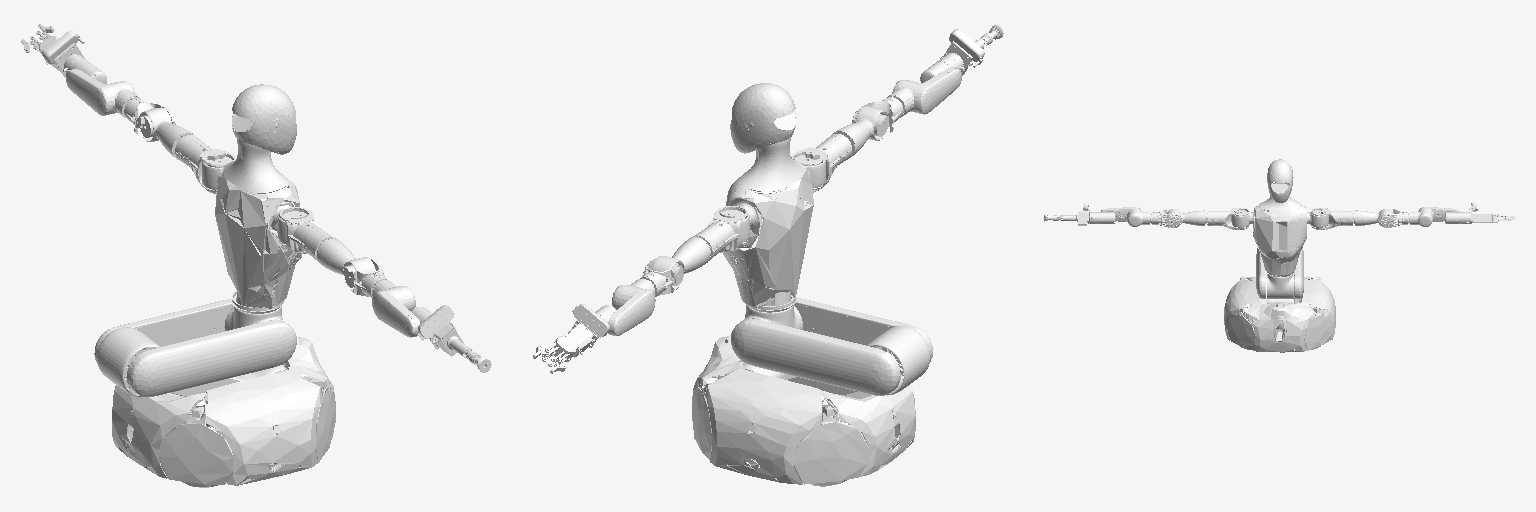
--- Facts derived from the render (not from the file) ---
Views: 3 orthographic renders of the robot side by side, from view 1: azimuth 30°, elevation 25°; view 2: azimuth 150°, elevation 25°; view 3: azimuth 270°, elevation 25°.
Robot: galbot_one — 47 links, 46 joints (21 revolute, 2 prismatic, 23 fixed); root link base_link; default pose: all joints at 0 but 2 set to mid-range because 0 is outside their limits (left_gripper_left_joint = 0.0275, left_gripper_right_joint = 0.0275).
Links seen in each view (by area): view 1: omni_chassis_base_link, leg_link2, torso_base_link, head_link2, leg_link1, left_arm_link5, right_arm_link5, right_arm_link2, right_arm_link3, left_arm_link3, left_arm_link2, left_arm_camera_flange_link (+7 smaller); view 2: omni_chassis_base_link, leg_link2, torso_base_link, head_link2, leg_link1, right_arm_link5, left_arm_link5, left_arm_link2, left_arm_link3, right_arm_link3, left_gripper_base_link, right_arm_link2 (+7 smaller); view 3: omni_chassis_base_link, torso_base_link, head_link2, leg_link2, leg_link3, left_arm_link5, right_arm_link5.
Boxes of the visible links, x1,y1,x2,y2 form: omni_chassis_base_link: (112,337,335,487); leg_link2: (94,299,296,396); torso_base_link: (215,139,301,308); head_link2: (231,84,296,154); leg_link1: (97,327,285,396); left_arm_link5: (66,68,140,118); right_arm_link5: (372,280,419,337); right_arm_link2: (279,207,335,260); right_arm_link3: (317,239,375,291); left_arm_link3: (136,107,194,159); left_arm_link2: (175,135,235,193); left_arm_camera_flange_link: (43,31,84,70); omni_chassis_base_link: (692,335,915,486); leg_link2: (731,297,932,395); torso_base_link: (723,130,813,308); head_link2: (730,83,795,153); leg_link1: (743,326,930,395); right_arm_link5: (887,67,961,116); left_arm_link5: (608,279,655,335); left_arm_link2: (691,206,747,260); left_arm_link3: (652,237,709,289); right_arm_link3: (833,106,888,157); left_gripper_base_link: (542,320,597,366); right_arm_link2: (791,134,851,192); omni_chassis_base_link: (1224,276,1335,352); torso_base_link: (1253,196,1306,275); head_link2: (1267,159,1293,202); leg_link2: (1256,248,1303,298); leg_link3: (1267,274,1293,298); left_arm_link5: (1410,207,1459,226); right_arm_link5: (1101,207,1149,226).
Bounding box of the posed robot: 0.6562 × 2.47 × 1.06 m (x, y, z).
Meshes: 33 distinct files referenced, 35 mesh visuals loaded (33 binary STL).

The robot description file, URDF, robot "galbot_one":
<?xml version="1.0" ?>
<!-- =================================================================================== -->
<!-- |    This document was autogenerated by xacro from urdf/galbot_one/galbot_one.xacro | -->
<!-- |    EDITING THIS FILE BY HAND IS NOT RECOMMENDED                                 | -->
<!-- =================================================================================== -->
<!-- 
#####################################################################################
#
# Copyright (c) 2023-2024 Galbot, Inc. All lefts Reserved.
#
# This software contains confidential and proprietary information of Galbot, Inc.
# ("Confidential Information"). You shall not disclose such Confidential Information
# and shall use it only in accordance with the terms of the license agreement you
# entered into with Galbot, Inc.
#
# UNAUTHORIZED COPYING, USE, OR DISTRIBUTION OF THIS SOFTWARE, OR ANY PORTION OR
# DERIVATIVE THEREOF, IS STRICTLY PROHIBITED. IF YOU HAVE RECEIVED THIS SOFTWARE IN
# ERROR, PLEASE NOTIFY GALBOT, INC. IMMEDIATELY AND DELETE IT FROM YOUR SYSTEM.
#
#####################################################################################
#
# Description: Xacro file for Galbot One.
# Author: Herman Ye@Galbot, Yuhao Zeng@Galbot
#
#####################################################################################
-->
<robot name="galbot_one">
  <!-- ROBOT -->
  <!-- Robot Base Link -->
  <link name="base_link"/>
  <joint name="omni_chassis_joint" type="fixed">
    <origin rpy="0 0 0" xyz="0 0 0"/>
    <parent link="base_link"/>
    <child link="omni_chassis_base_link"/>
  </joint>
  <link name="omni_chassis_base_link">
    <inertial>
      <origin rpy="0 0 0" xyz="0.00094269 0.00017452 0.09326"/>
      <mass value="8.7914"/>
      <inertia ixx="0.11584" ixy="-0.00011125" ixz="0.00045932" iyy="0.08221" iyz="2.8393E-06" izz="0.14295"/>
    </inertial>
    <visual>
      <origin rpy="0 0 0" xyz="0 0 0"/>
      <geometry>
        <mesh filename="meshes/chassis/omni_chassis_base_link.stl"/>
      </geometry>
      <material name="">
        <color rgba="1 1 1 1"/>
      </material>
    </visual>
    <collision>
      <origin rpy="0 0 0" xyz="0 0 0"/>
      <geometry>
        <mesh filename="meshes/chassis/omni_chassis_base_link.stl"/>
      </geometry>
    </collision>
  </link>
  <link name="omni_chassis_leg_mount_link"/>
  <joint name="omni_chassis_leg_mount_joint" type="fixed">
    <origin rpy="1.5707963267948966 0 0" xyz="0.134 -0.087 0.13"/>
    <parent link="omni_chassis_base_link"/>
    <child link="omni_chassis_leg_mount_link"/>
    <axis xyz="0 0 0"/>
  </joint>
  <joint name="leg_joint" type="fixed">
    <origin rpy="0 0 0" xyz="0 0 0"/>
    <parent link="omni_chassis_leg_mount_link"/>
    <child link="leg_base_link"/>
  </joint>
  <link name="leg_base_link">
    <inertial>
      <origin rpy="0 0 0" xyz="0.0027248 -0.094364 -0.050137"/>
      <mass value="0.91885"/>
      <inertia ixx="0.0043203" ixy="6.1508E-05" ixz="8.9569E-05" iyy="0.0039878" iyz="-0.0010684" izz="0.0027984"/>
    </inertial>
    <visual>
      <origin rpy="0 0 0" xyz="0 0 0"/>
      <geometry>
        <mesh filename="meshes/leg/leg_base_link.stl"/>
      </geometry>
      <material name="">
        <color rgba="1 1 1 1"/>
      </material>
    </visual>
    <collision>
      <origin rpy="0 0 0" xyz="0 0 0"/>
      <geometry>
        <mesh filename="meshes/leg/leg_base_link.stl"/>
      </geometry>
    </collision>
  </link>
  <link name="leg_link1">
    <inertial>
      <origin rpy="0 0 0" xyz="0.23294 -0.0052987 0.0039698"/>
      <mass value="4.7692"/>
      <inertia ixx="0.019082" ixy="-0.0011116" ixz="0.00034191" iyy="0.16145" iyz="-6.2146E-05" izz="0.15826"/>
    </inertial>
    <visual>
      <origin rpy="0 0 0" xyz="0 0 0"/>
      <geometry>
        <mesh filename="meshes/leg/leg_link1.stl"/>
      </geometry>
      <material name="">
        <color rgba="1 1 1 1"/>
      </material>
    </visual>
    <collision>
      <origin rpy="0 0 0" xyz="0 0 0"/>
      <geometry>
        <mesh filename="meshes/leg/leg_link1.stl"/>
      </geometry>
    </collision>
  </link>
  <joint name="leg_joint1" type="revolute">
    <origin rpy="-3.141592653589793 0 2.756573021" xyz="0 0 -0.087"/>
    <parent link="leg_base_link"/>
    <child link="leg_link1"/>
    <axis xyz="0 0 1"/>
    <limit effort="169" lower="0" upper="0.994837674" velocity="2.3"/>
  </joint>
  <link name="leg_link2">
    <inertial>
      <origin rpy="0 0 0" xyz="0.19637 2.4915E-06 0.0034234"/>
      <mass value="3.6233"/>
      <inertia ixx="0.0054462" ixy="-2.1435E-06" ixz="-2.9611E-05" iyy="0.066819" iyz="5.2347E-08" izz="0.071791"/>
    </inertial>
    <visual>
      <origin rpy="0 0 0" xyz="0 0 0"/>
      <geometry>
        <mesh filename="meshes/leg/leg_link2.stl"/>
      </geometry>
      <material name="">
        <color rgba="1 1 1 1"/>
      </material>
    </visual>
    <collision>
      <origin rpy="0 0 0" xyz="0 0 0"/>
      <geometry>
        <mesh filename="meshes/leg/leg_link2.stl"/>
      </geometry>
    </collision>
  </link>
  <joint name="leg_joint2" type="revolute">
    <origin rpy="-3.141592653589793 0 2.756573021" xyz="0.45 0 0"/>
    <parent link="leg_link1"/>
    <child link="leg_link2"/>
    <axis xyz="0 0 1"/>
    <limit effort="169" lower="0" upper="3.141592654" velocity="2.3"/>
  </joint>
  <link name="leg_link3">
    <inertial>
      <origin rpy="0 0 0" xyz="-1.1016E-05 0.012237 0.0042074"/>
      <mass value="1.7624"/>
      <inertia ixx="0.006745" ixy="-4.1776E-07" ixz="8.7932E-07" iyy="0.0066437" iyz="9.063E-05" izz="0.0073862"/>
    </inertial>
    <visual>
      <origin rpy="0 0 0" xyz="0 0 0"/>
      <geometry>
        <mesh filename="meshes/leg/leg_link3.stl"/>
      </geometry>
      <material name="">
        <color rgba="1 1 1 1"/>
      </material>
    </visual>
    <collision>
      <origin rpy="0 0 0" xyz="0 0 0"/>
      <geometry>
        <mesh filename="meshes/leg/leg_link3.stl"/>
      </geometry>
    </collision>
  </link>
  <joint name="leg_joint3" type="revolute">
    <origin rpy="-3.141592653589793 0 -3.141592653589793" xyz="0.39 0 0"/>
    <parent link="leg_link2"/>
    <child link="leg_link3"/>
    <axis xyz="0 0 1"/>
    <limit effort="84" lower="0" upper="2.35619449" velocity="2.83"/>
  </joint>
  <link name="leg_link4">
    <inertial>
      <origin rpy="0 0 0" xyz="5.7927E-05 -3.0701E-05 0.15111"/>
      <mass value="0.37584"/>
      <inertia ixx="0.00049514" ixy="-3.0213E-07" ixz="-3.9055E-09" iyy="0.00051468" iyz="1.3486E-09" izz="0.00084078"/>
    </inertial>
    <visual>
      <origin rpy="0 0 0" xyz="0 0 0"/>
      <geometry>
        <mesh filename="meshes/leg/leg_link4.stl"/>
      </geometry>
      <material name="">
        <color rgba="1 1 1 1"/>
      </material>
    </visual>
    <collision>
      <origin rpy="0 0 0" xyz="0 0 0"/>
      <geometry>
        <mesh filename="meshes/leg/leg_link4.stl"/>
      </geometry>
    </collision>
  </link>
  <joint name="leg_joint4" type="revolute">
    <origin rpy="1.5707963267948966 0 -3.141592653589793" xyz="0 0 0"/>
    <parent link="leg_link3"/>
    <child link="leg_link4"/>
    <axis xyz="0 0 1"/>
    <limit effort="30" lower="-1.570796327" upper="1.570796327" velocity="3.56"/>
  </joint>
  <link name="leg_torso_mount_link"/>
  <joint name="leg_torso_mount_joint" type="fixed">
    <origin rpy="0 0 0" xyz="0 0 0"/>
    <parent link="leg_link4"/>
    <child link="leg_torso_mount_link"/>
    <axis xyz="0 0 0"/>
  </joint>
  <joint name="torso_joint" type="fixed">
    <origin rpy="0 0 0" xyz="0 0 0"/>
    <parent link="leg_torso_mount_link"/>
    <child link="torso_base_link"/>
  </joint>
  <link name="torso_base_link">
    <inertial>
      <origin rpy="0 0 0" xyz="0.009452 -0.0097068 -0.041989"/>
      <mass value="1.5697"/>
      <inertia ixx="0.018397" ixy="-6.5897E-07" ixz="0.00030036" iyy="0.013058" iyz="0.00016843" izz="0.0082332"/>
    </inertial>
    <visual>
      <origin rpy="0 0 0" xyz="0 0 0"/>
      <geometry>
        <mesh filename="meshes/torso/torso_base_link.stl"/>
      </geometry>
      <material name="">
        <color rgba="1 1 1 1"/>
      </material>
    </visual>
    <collision>
      <origin rpy="0 0 0" xyz="0 0 0"/>
      <geometry>
        <mesh filename="meshes/torso/torso_base_link.stl"/>
      </geometry>
    </collision>
  </link>
  <!-- Head Mount -->
  <link name="torso_head_mount_link"/>
  <joint name="torso_head_mount_joint" type="fixed">
    <origin rpy="0 0 0" xyz="-0.0081669 5E-05 0.51594"/>
    <parent link="torso_base_link"/>
    <child link="torso_head_mount_link"/>
    <axis xyz="0 0 0"/>
  </joint>
  <!-- Right Arm Mount -->
  <link name="torso_right_arm_mount_link"/>
  <joint name="torso_right_arm_mount_joint" type="fixed">
    <origin rpy="1.5707963267948966 0 0" xyz="0 -0.13 0.39599"/>
    <parent link="torso_base_link"/>
    <child link="torso_right_arm_mount_link"/>
    <axis xyz="0 0 0"/>
  </joint>
  <!-- Left Arm Mount -->
  <link name="torso_left_arm_mount_link"/>
  <joint name="torso_left_arm_mount_joint" type="fixed">
    <origin rpy="1.5707963267948966 0 3.141592653589793" xyz="0 0.13 0.39599"/>
    <parent link="torso_base_link"/>
    <child link="torso_left_arm_mount_link"/>
    <axis xyz="0 0 0"/>
  </joint>
  <joint name="head_joint" type="fixed">
    <origin rpy="0 0 0" xyz="0 0 0"/>
    <parent link="torso_head_mount_link"/>
    <child link="head_base_link"/>
  </joint>
  <link name="head_base_link">
    <inertial>
      <origin rpy="0 0 0" xyz="0.009452 -0.0097068 -0.16194"/>
      <mass value="1.5697"/>
      <inertia ixx="0.018397" ixy="-6.5897E-07" ixz="0.00030036" iyy="0.013058" iyz="0.00016843" izz="0.0082332"/>
    </inertial>
    <visual>
      <origin rpy="0 0 0" xyz="0 0 0"/>
      <geometry>
        <mesh filename="meshes/head/head_base_link.stl"/>
      </geometry>
      <material name="">
        <color rgba="1 1 1 1"/>
      </material>
    </visual>
    <collision>
      <origin rpy="0 0 0" xyz="0 0 0"/>
      <geometry>
        <mesh filename="meshes/head/head_base_link.stl"/>
      </geometry>
    </collision>
  </link>
  <link name="head_link1">
    <inertial>
      <origin rpy="0 0 0" xyz="0 0.020487 -0.038531"/>
      <mass value="0.067654"/>
      <inertia ixx="6.0514E-05" ixy="9.335E-21" ixz="-2.5793E-20" iyy="6.6478E-05" iyz="-1.3077E-05" izz="2.4032E-05"/>
    </inertial>
    <visual>
      <origin rpy="0 0 0" xyz="0 0 0"/>
      <geometry>
        <mesh filename="meshes/head/head_link1.stl"/>
      </geometry>
      <material name="">
        <color rgba="1 1 1 1"/>
      </material>
    </visual>
    <collision>
      <origin rpy="0 0 0" xyz="0 0 0"/>
      <geometry>
        <mesh filename="meshes/head/head_link1.stl"/>
      </geometry>
    </collision>
  </link>
  <joint name="head_joint1" type="revolute">
    <origin rpy="0 0 0" xyz="0 0 0.068"/>
    <parent link="head_base_link"/>
    <child link="head_link1"/>
    <axis xyz="0 0 1"/>
    <limit effort="4" lower="-1.570796327" upper="1.570796327" velocity="8.38"/>
  </joint>
  <link name="head_link2">
    <inertial>
      <origin rpy="0 0 0" xyz="0.024473 -0.053558 0.0026343"/>
      <mass value="0.34019"/>
      <inertia ixx="0.0011508" ixy="-0.00026177" ixz="-4.0924E-07" iyy="0.00085046" iyz="1.4953E-08" izz="0.0010147"/>
    </inertial>
    <visual>
      <origin rpy="0 0 0" xyz="0 0 0"/>
      <geometry>
        <mesh filename="meshes/head/head_link2.stl"/>
      </geometry>
      <material name="">
        <color rgba="1 1 1 1"/>
      </material>
    </visual>
    <collision>
      <origin rpy="0 0 0" xyz="0 0 0"/>
      <geometry>
        <mesh filename="meshes/head/head_link2.stl"/>
      </geometry>
    </collision>
  </link>
  <joint name="head_joint2" type="revolute">
    <origin rpy="-1.5707963267948966 0 0" xyz="0 0 0"/>
    <parent link="head_link1"/>
    <child link="head_link2"/>
    <axis xyz="0 0 1"/>
    <limit effort="4" lower="-0.366519143" upper="0.366519143" velocity="8.38"/>
  </joint>
  <joint name="right_arm_joint" type="fixed">
    <origin rpy="0 0 0" xyz="0 0 0"/>
    <parent link="torso_right_arm_mount_link"/>
    <child link="right_arm_base_link"/>
  </joint>
  <link name="right_arm_base_link">
    <inertial>
      <origin rpy="0 0 0" xyz="-0.000533006129660687 0.000198297061670072 -0.0301844828757755"/>
      <mass value="1.10147619180644"/>
      <inertia ixx="0.000565108607160801" ixy="3.47222948820335E-06" ixz="-1.99104558319723E-05" iyy="0.000573095012457538" iyz="7.38740833192177E-06" izz="0.000685130221778769"/>
    </inertial>
    <visual>
      <origin rpy="0 0 0" xyz="0 0 0"/>
      <geometry>
        <mesh filename="meshes/arm/right_arm_base_link.stl"/>
      </geometry>
      <material name="">
        <color rgba="1 1 1 1"/>
      </material>
    </visual>
    <collision>
      <origin rpy="0 0 0" xyz="0 0 0"/>
      <geometry>
        <mesh filename="meshes/arm/right_arm_base_link.stl"/>
      </geometry>
    </collision>
  </link>
  <link name="right_arm_link1">
    <inertial>
      <origin rpy="0 0 0" xyz="3.49009164621467E-05 0.0108339687508697 -0.00355285779638756"/>
      <mass value="1.50298216561586"/>
      <inertia ixx="0.00141484199510697" ixy="1.78602050106263E-06" ixz="-8.63528107802525E-07" iyy="0.00177403869249562" iyz="5.86035752669724E-06" izz="0.00110206097229515"/>
    </inertial>
    <visual>
      <origin rpy="0 0 0" xyz="0 0 0"/>
      <geometry>
        <mesh filename="meshes/arm/right_arm_link1.stl"/>
      </geometry>
      <material name="">
        <color rgba="1 1 1 1"/>
      </material>
    </visual>
    <collision>
      <origin rpy="0 0 0" xyz="0 0 0"/>
      <geometry>
        <mesh filename="meshes/arm/right_arm_link1.stl"/>
      </geometry>
    </collision>
  </link>
  <joint name="right_arm_joint1" type="revolute">
    <origin rpy="0 0 0" xyz="0 0 0.076"/>
    <parent link="right_arm_base_link"/>
    <child link="right_arm_link1"/>
    <axis xyz="0 0 1"/>
    <limit effort="60" lower="-3.141592654" upper="3.141592654" velocity="1.5"/>
  </joint>
  <link name="right_arm_link2">
    <inertial>
      <origin rpy="0 0 0" xyz="-0.0011542937189659 -0.125918427333295 0.00403909337671848"/>
      <mass value="1.45678998733303"/>
      <inertia ixx="0.00269801896410487" ixy="4.63119567548212E-05" ixz="-1.77748665814381E-05" iyy="0.00131692955308753" iyz="-0.000382862812261171" izz="0.00264831680492027"/>
    </inertial>
    <visual>
      <origin rpy="0 0 0" xyz="0 0 0"/>
      <geometry>
        <mesh filename="meshes/arm/right_arm_link2.stl"/>
      </geometry>
      <material name="">
        <color rgba="1 1 1 1"/>
      </material>
    </visual>
    <collision>
      <origin rpy="0 0 0" xyz="0 0 0"/>
      <geometry>
        <mesh filename="meshes/arm/right_arm_link2.stl"/>
      </geometry>
    </collision>
  </link>
  <joint name="right_arm_joint2" type="revolute">
    <origin rpy="-1.5707963267948966 0 3.141592653589793" xyz="0 0 0"/>
    <parent link="right_arm_link1"/>
    <child link="right_arm_link2"/>
    <axis xyz="0 0 1"/>
    <limit effort="60" lower="-2.1" upper="1.570796327" velocity="1.5"/>
  </joint>
  <link name="right_arm_link3">
    <inertial>
      <origin rpy="0 0 0" xyz="0.000352305768300032 -0.00726519320891149 -0.0216211172275835"/>
      <mass value="1.19882450635199"/>
      <inertia ixx="0.00220937810713451" ixy="-1.39043584660172E-05" ixz="1.48996603867525E-06" iyy="0.00236018741531392" iyz="4.46418780437893E-05" izz="0.000843927012398976"/>
    </inertial>
    <visual>
      <origin rpy="0 0 0" xyz="0 0 0"/>
      <geometry>
        <mesh filename="meshes/arm/right_arm_link3.stl"/>
      </geometry>
      <material name="">
        <color rgba="1 1 1 1"/>
      </material>
    </visual>
    <collision>
      <origin rpy="0 0 0" xyz="0 0 0"/>
      <geometry>
        <mesh filename="meshes/arm/right_arm_link3.stl"/>
      </geometry>
    </collision>
  </link>
  <joint name="right_arm_joint3" type="revolute">
    <origin rpy="1.5707963267948966 1.5707963267948966 0" xyz="0 -0.35 0"/>
    <parent link="right_arm_link2"/>
    <child link="right_arm_link3"/>
    <axis xyz="0 0 1"/>
    <limit effort="30" lower="-3.141592654" upper="3.141592654" velocity="1.5"/>
  </joint>
  <link name="right_arm_link4">
    <inertial>
      <origin rpy="0 0 0" xyz="1.5931431873728E-07 -0.084100166334916 0.0032662830921263"/>
      <mass value="0.867364365948374"/>
      <inertia ixx="0.000877887383976985" ixy="1.06944001020881E-08" ixz="-1.42122359084054E-07" iyy="0.000585386964708275" iyz="-0.000142796694938426" izz="0.000827176121025835"/>
    </inertial>
    <visual>
      <origin rpy="0 0 0" xyz="0 0 0"/>
      <geometry>
        <mesh filename="meshes/arm/right_arm_link4.stl"/>
      </geometry>
      <material name="">
        <color rgba="1 1 1 1"/>
      </material>
    </visual>
    <collision>
      <origin rpy="0 0 0" xyz="0 0 0"/>
      <geometry>
        <mesh filename="meshes/arm/right_arm_link4.stl"/>
      </geometry>
    </collision>
  </link>
  <joint name="right_arm_joint4" type="revolute">
    <origin rpy="-1.5707963267948966 0 3.141592653589793" xyz="0 0 0"/>
    <parent link="right_arm_link3"/>
    <child link="right_arm_link4"/>
    <axis xyz="0 0 1"/>
    <limit effort="30" lower="-2.1" upper="2.1" velocity="1.5"/>
  </joint>
  <link name="right_arm_link5">
    <inertial>
      <origin rpy="0 0 0" xyz="-1.30340366499837E-06 0.0256418767190977 -0.117743286278551"/>
      <mass value="1.39256420094548"/>
      <inertia ixx="0.00316702853902255" ixy="7.21162282210242E-08" ixz="-1.52177542728743E-07" iyy="0.00325737339135618" iyz="-0.000396176140685722" izz="0.000888812918742085"/>
    </inertial>
    <visual>
      <origin rpy="0 0 0" xyz="0 0 0"/>
      <geometry>
        <mesh filename="meshes/arm/right_arm_link5.stl"/>
      </geometry>
      <material name="">
        <color rgba="1 1 1 1"/>
      </material>
    </visual>
    <collision>
      <origin rpy="0 0 0" xyz="0 0 0"/>
      <geometry>
        <mesh filename="meshes/arm/right_arm_link5.stl"/>
      </geometry>
    </collision>
  </link>
  <joint name="right_arm_joint5" type="revolute">
    <origin rpy="1.5707963267948966 0 0" xyz="0 -0.36 0"/>
    <parent link="right_arm_link4"/>
    <child link="right_arm_link5"/>
    <axis xyz="0 0 1"/>
    <limit effort="10" lower="-3.141592654" upper="3.141592654" velocity="1.5"/>
  </joint>
  <link name="right_arm_link6">
    <inertial>
      <origin rpy="0 0 0" xyz="-2.88922358060439E-06 -0.000979379563628591 -1.95950029232006E-05"/>
      <mass value="0.574328152865271"/>
      <inertia ixx="0.000196239414479137" ixy="-4.42040670473688E-09" ixz="-2.96256099677375E-08" iyy="0.00023336393089217" iyz="-6.88062986985096E-08" izz="0.000196560460694031"/>
    </inertial>
    <visual>
      <origin rpy="0 0 0" xyz="0 0 0"/>
      <geometry>
        <mesh filename="meshes/arm/right_arm_link6.stl"/>
      </geometry>
      <material name="">
        <color rgba="1 1 1 1"/>
      </material>
    </visual>
    <collision>
      <origin rpy="0 0 0" xyz="0 0 0"/>
      <geometry>
        <mesh filename="meshes/arm/right_arm_link6.stl"/>
      </geometry>
    </collision>
  </link>
  <joint name="right_arm_joint6" type="revolute">
    <origin rpy="-1.5707963267948966 0 3.141592653589793" xyz="0 0 0"/>
    <parent link="right_arm_link5"/>
    <child link="right_arm_link6"/>
    <axis xyz="0 0 1"/>
    <limit effort="10" lower="-1.570796327" upper="1.570796327" velocity="1.5"/>
  </joint>
  <link name="right_arm_link7">
    <inertial>
      <origin rpy="0 0 0" xyz="0.000145324653036516 0.000669639293546548 0.0517788732710871"/>
      <mass value="0.271983892475789"/>
      <inertia ixx="9.12795880546355E-05" ixy="-3.70484062161125E-07" ixz="3.02036543797804E-07" iyy="9.01051818347072E-05" iyz="-2.27095800634144E-07" izz="0.00015076316927533"/>
    </inertial>
    <visual>
      <origin rpy="0 0 0" xyz="0 0 0"/>
      <geometry>
        <mesh filename="meshes/arm/right_arm_link7.stl"/>
      </geometry>
      <material name="">
        <color rgba="1 1 1 1"/>
      </material>
    </visual>
    <collision>
      <origin rpy="0 0 0" xyz="0 0 0"/>
      <geometry>
        <mesh filename="meshes/arm/right_arm_link7.stl"/>
      </geometry>
    </collision>
  </link>
  <joint name="right_arm_joint7" type="revolute">
    <origin rpy="-1.5707963267948966 3.141592653589793 3.141592653589793" xyz="0 0 0"/>
    <parent link="right_arm_link6"/>
    <child link="right_arm_link7"/>
    <axis xyz="0 0 1"/>
    <limit effort="10" lower="-3.141592654" upper="3.141592654" velocity="1.5"/>
  </joint>
  <link name="right_arm_end_effector_mount_link"/>
  <joint name="right_arm_end_effector_mount_joint" type="fixed">
    <origin rpy="0 0 0" xyz="0 0 0.0845"/>
    <parent link="right_arm_link7"/>
    <child link="right_arm_end_effector_mount_link"/>
    <axis xyz="0 0 0"/>
  </joint>
  <joint name="right_flange_joint" type="fixed">
    <origin rpy="0 0 0.523598776" xyz="0 0 0"/>
    <parent link="right_arm_end_effector_mount_link"/>
    <child link="right_flange_base_link"/>
  </joint>
  <link name="right_flange_base_link">
    <inertial>
      <origin rpy="0 0 0" xyz="0.052829 -0.00096484 0.013285"/>
      <mass value="0.25733"/>
      <inertia ixx="0.0002175" ixy="-2.5433E-06" ixz="4.0586E-06" iyy="5.3894E-05" iyz="-1.8533E-06" izz="0.00025319"/>
    </inertial>
    <visual>
      <origin rpy="0 0 0" xyz="0 0 0"/>
      <geometry>
        <mesh filename="meshes/flange/flange_base_link.stl"/>
      </geometry>
      <material name="">
        <color rgba="1 1 1 1"/>
      </material>
    </visual>
    <collision>
      <origin rpy="0 0 0" xyz="0 0 0"/>
      <geometry>
        <mesh filename="meshes/flange/flange_base_link.stl"/>
      </geometry>
    </collision>
  </link>
  <link name="right_flange_mount_link"/>
  <joint name="right_flange_mount_joint" type="fixed">
    <origin rpy="0 0 0" xyz="0 0 0.006"/>
    <parent link="right_flange_base_link"/>
    <child link="right_flange_mount_link"/>
    <axis xyz="0 0 0"/>
  </joint>
  <joint name="right_arm_camera_joint" type="fixed">
    <origin rpy="3.1415926 -1.308996939 0" xyz="0.0526 -0.02 0.02054"/>
    <parent link="right_flange_base_link"/>
    <child link="right_arm_camera_flange_link"/>
  </joint>
  <link name="right_arm_camera_flange_link">
    <inertial>
      <origin rpy="0 0 0" xyz="0.052829 -0.00096484 0.013285"/>
      <mass value="0.25733"/>
      <inertia ixx="0.0002175" ixy="-2.5433E-06" ixz="4.0586E-06" iyy="5.3894E-05" iyz="-1.8533E-06" izz="0.00025319"/>
    </inertial>
    <visual>
      <origin rpy="0 0 0" xyz="0 0 0"/>
      <geometry>
        <mesh filename="meshes/camera/arm_camera.stl"/>
      </geometry>
      <material name="">
        <color rgba="1 1 1 1"/>
      </material>
    </visual>
    <collision>
      <origin rpy="0 0 0" xyz="0 0 0"/>
      <geometry>
        <mesh filename="meshes/camera/arm_camera.stl"/>
      </geometry>
    </collision>
  </link>
  <joint name="right_suction_cup_joint" type="fixed">
    <origin rpy="0 0 0" xyz="0 0 0"/>
    <parent link="right_flange_mount_link"/>
    <child link="right_suction_cup_base_link"/>
  </joint>
  <link name="right_suction_cup_base_link">
    <inertial>
      <origin rpy="0 0 0" xyz="-4.0035E-05 -0.00015919 0.065665"/>
      <mass value="0.36941"/>
      <inertia ixx="0.00014564" ixy="3.5459E-07" ixz="-1.2386E-07" iyy="0.00016918" iyz="-4.0084E-07" izz="0.000219"/>
    </inertial>
    <visual>
      <origin rpy="0 0 0" xyz="0 0 0"/>
      <geometry>
        <mesh filename="meshes/suction_cup/suction_cup_base_link.stl"/>
      </geometry>
      <material name="">
        <color rgba="1 1 1 1"/>
      </material>
    </visual>
    <collision>
      <origin rpy="0 0 0" xyz="0 0 0"/>
      <geometry>
        <mesh filename="meshes/suction_cup/suction_cup_base_link.stl"/>
      </geometry>
    </collision>
  </link>
  <link name="right_suction_cup_link1">
    <inertial>
      <origin rpy="0 0 0" xyz="0.037966 -3.0191E-05 -4.2414E-08"/>
      <mass value="0.063856"/>
      <inertia ixx="7.1717E-06" ixy="1.7711E-08" ixz="-3.6994E-11" iyy="8.0256E-06" iyz="4.7383E-09" izz="7.78E-06"/>
    </inertial>
    <visual>
      <origin rpy="0 0 0" xyz="0 0 0"/>
      <geometry>
        <mesh filename="meshes/suction_cup/suction_cup_link1.stl"/>
      </geometry>
      <material name="">
        <color rgba="1 1 1 1"/>
      </material>
    </visual>
    <collision>
      <origin rpy="0 0 0" xyz="0 0 0"/>
      <geometry>
        <mesh filename="meshes/suction_cup/suction_cup_link1.stl"/>
      </geometry>
    </collision>
  </link>
  <joint name="right_suction_cup_joint1" type="revolute">
    <origin rpy="1.5707963267948966 0 -1.5707963267948966" xyz="0 0 0.145"/>
    <parent link="right_suction_cup_base_link"/>
    <child link="right_suction_cup_link1"/>
    <axis xyz="0 0 1"/>
    <limit effort="1" lower="0" upper="1.570796327" velocity="1.570796327"/>
  </joint>
  <link name="right_suction_cup_tcp_link"/>
  <joint name="right_suction_cup_tcp_joint" type="fixed">
    <origin rpy="1.5707963267948966 1.5707963267948966 3.141592653589793" xyz="0 0.079807 0"/>
    <parent link="right_suction_cup_link1"/>
    <child link="right_suction_cup_tcp_link"/>
    <axis xyz="0 0 0"/>
  </joint>
  <joint name="left_arm_joint" type="fixed">
    <origin rpy="0 0 0" xyz="0 0 0"/>
    <parent link="torso_left_arm_mount_link"/>
    <child link="left_arm_base_link"/>
  </joint>
  <link name="left_arm_base_link">
    <inertial>
      <origin rpy="0 0 0" xyz="0.00056868 -5.0139E-06 -0.030184"/>
      <mass value="1.1015"/>
      <inertia ixx="0.00056381" ixy="1.1123E-07" ixz="2.1236E-05" iyy="0.00057439" iyz="-1.685E-07" izz="0.00068513"/>
    </inertial>
    <visual>
      <origin rpy="0 0 0" xyz="0 0 0"/>
      <geometry>
        <mesh filename="meshes/arm/left_arm_base_link.stl"/>
      </geometry>
      <material name="">
        <color rgba="1 1 1 1"/>
      </material>
    </visual>
    <collision>
      <origin rpy="0 0 0" xyz="0 0 0"/>
      <geometry>
        <mesh filename="meshes/arm/left_arm_base_link.stl"/>
      </geometry>
    </collision>
  </link>
  <link name="left_arm_link1">
    <inertial>
      <origin rpy="0 0 0" xyz="-3.4901E-05 -0.010834 -0.0035529"/>
      <mass value="1.503"/>
      <inertia ixx="0.0014148" ixy="1.786E-06" ixz="8.6353E-07" iyy="0.001774" iyz="-5.8604E-06" izz="0.0011021"/>
    </inertial>
    <visual>
      <origin rpy="0 0 0" xyz="0 0 0"/>
      <geometry>
        <mesh filename="meshes/arm/left_arm_link1.stl"/>
      </geometry>
      <material name="">
        <color rgba="1 1 1 1"/>
      </material>
    </visual>
    <collision>
      <origin rpy="0 0 0" xyz="0 0 0"/>
      <geometry>
        <mesh filename="meshes/arm/left_arm_link1.stl"/>
      </geometry>
    </collision>
  </link>
  <joint name="left_arm_joint1" type="revolute">
    <origin rpy="0 0 0" xyz="0 0 0.076"/>
    <parent link="left_arm_base_link"/>
    <child link="left_arm_link1"/>
    <axis xyz="0 0 1"/>
    <limit effort="60" lower="-3.141592654" upper="3.141592654" velocity="1.5"/>
  </joint>
  <link name="left_arm_link2">
    <inertial>
      <origin rpy="0 0 0" xyz="0.0011543 0.12592 0.0040391"/>
      <mass value="1.4568"/>
      <inertia ixx="0.002698" ixy="4.6312E-05" ixz="1.7775E-05" iyy="0.0013169" iyz="0.00038286" izz="0.0026483"/>
    </inertial>
    <visual>
      <origin rpy="0 0 0" xyz="0 0 0"/>
      <geometry>
        <mesh filename="meshes/arm/left_arm_link2.stl"/>
      </geometry>
      <material name="">
        <color rgba="1 1 1 1"/>
      </material>
    </visual>
    <collision>
      <origin rpy="0 0 0" xyz="0 0 0"/>
      <geometry>
        <mesh filename="meshes/arm/left_arm_link2.stl"/>
      </geometry>
    </collision>
  </link>
  <joint name="left_arm_joint2" type="revolute">
    <origin rpy="-1.5707963267948966 0 3.141592653589793" xyz="0 0 0"/>
    <parent link="left_arm_link1"/>
    <child link="left_arm_link2"/>
    <axis xyz="0 0 1"/>
    <limit effort="60" lower="-1.570796327" upper="2.1" velocity="1.5"/>
  </joint>
  <link name="left_arm_link3">
    <inertial>
      <origin rpy="0 0 0" xyz="0.00035231 -0.0072652 -0.021621"/>
      <mass value="1.1988"/>
      <inertia ixx="0.0022094" ixy="-1.3904E-05" ixz="1.4901E-06" iyy="0.0023602" iyz="4.4642E-05" izz="0.00084393"/>
    </inertial>
    <visual>
      <origin rpy="0 0 0" xyz="0 0 0"/>
      <geometry>
        <mesh filename="meshes/arm/left_arm_link3.stl"/>
      </geometry>
      <material name="">
        <color rgba="1 1 1 1"/>
      </material>
    </visual>
    <collision>
      <origin rpy="0 0 0" xyz="0 0 0"/>
      <geometry>
        <mesh filename="meshes/arm/left_arm_link3.stl"/>
      </geometry>
    </collision>
  </link>
  <joint name="left_arm_joint3" type="revolute">
    <origin rpy="1.5707963267948966 -1.5707963267948966 0" xyz="0 -0.35 0"/>
    <parent link="left_arm_link2"/>
    <child link="left_arm_link3"/>
    <axis xyz="0 0 1"/>
    <limit effort="30" lower="-3.141592654" upper="3.141592654" velocity="1.5"/>
  </joint>
  <link name="left_arm_link4">
    <inertial>
      <origin rpy="0 0 0" xyz="1.6053E-07 -0.0841 0.0032663"/>
      <mass value="0.86736"/>
      <inertia ixx="0.00087789" ixy="1.0686E-08" ixz="-1.4208E-07" iyy="0.00058539" iyz="-0.0001428" izz="0.00082718"/>
    </inertial>
    <visual>
      <origin rpy="0 0 0" xyz="0 0 0"/>
      <geometry>
        <mesh filename="meshes/arm/left_arm_link4.stl"/>
      </geometry>
      <material name="">
        <color rgba="1 1 1 1"/>
      </material>
    </visual>
    <collision>
      <origin rpy="0 0 0" xyz="0 0 0"/>
      <geometry>
        <mesh filename="meshes/arm/left_arm_link4.stl"/>
      </geometry>
    </collision>
  </link>
  <joint name="left_arm_joint4" type="revolute">
    <origin rpy="-1.5707963267948966 0 3.141592653589793" xyz="0 0 0"/>
    <parent link="left_arm_link3"/>
    <child link="left_arm_link4"/>
    <axis xyz="0 0 1"/>
    <limit effort="30" lower="-2.1" upper="2.1" velocity="1.5"/>
  </joint>
  <link name="left_arm_link5">
    <inertial>
      <origin rpy="0 0 0" xyz="1.5971E-06 -0.025642 -0.11774"/>
      <mass value="1.3926"/>
      <inertia ixx="0.003167" ixy="8.3315E-08" ixz="1.4879E-07" iyy="0.0032574" iyz="0.00039617" izz="0.00088879"/>
    </inertial>
    <visual>
      <origin rpy="0 0 0" xyz="0 0 0"/>
      <geometry>
        <mesh filename="meshes/arm/left_arm_link5.stl"/>
      </geometry>
      <material name="">
        <color rgba="1 1 1 1"/>
      </material>
    </visual>
    <collision>
      <origin rpy="0 0 0" xyz="0 0 0"/>
      <geometry>
        <mesh filename="meshes/arm/left_arm_link5.stl"/>
      </geometry>
    </collision>
  </link>
  <joint name="left_arm_joint5" type="revolute">
    <origin rpy="1.5707963267948966 0 0" xyz="0 -0.36 0"/>
    <parent link="left_arm_link4"/>
    <child link="left_arm_link5"/>
    <axis xyz="0 0 1"/>
    <limit effort="10" lower="-3.141592654" upper="3.141592654" velocity="1.5"/>
  </joint>
  <link name="left_arm_link6">
    <inertial>
      <origin rpy="0 0 0" xyz="-2.8892E-06 -0.00097938 -1.9595E-05"/>
      <mass value="0.57433"/>
      <inertia ixx="0.00019624" ixy="-4.4204E-09" ixz="-2.9626E-08" iyy="0.00023336" iyz="-6.8806E-08" izz="0.00019656"/>
    </inertial>
    <visual>
      <origin rpy="0 0 0" xyz="0 0 0"/>
      <geometry>
        <mesh filename="meshes/arm/left_arm_link6.stl"/>
      </geometry>
      <material name="">
        <color rgba="1 1 1 1"/>
      </material>
    </visual>
    <collision>
      <origin rpy="0 0 0" xyz="0 0 0"/>
      <geometry>
        <mesh filename="meshes/arm/left_arm_link6.stl"/>
      </geometry>
    </collision>
  </link>
  <joint name="left_arm_joint6" type="revolute">
    <origin rpy="-1.5707963267948966 0 3.141592653589793" xyz="0 0 0"/>
    <parent link="left_arm_link5"/>
    <child link="left_arm_link6"/>
    <axis xyz="0 0 1"/>
    <limit effort="10" lower="-1.570796327" upper="1.570796327" velocity="1.5"/>
  </joint>
  <link name="left_arm_link7">
    <inertial>
      <origin rpy="0 0 0" xyz="0.00014532 0.00066964 0.051779"/>
      <mass value="0.27198"/>
      <inertia ixx="9.128E-05" ixy="-3.7048E-07" ixz="3.0204E-07" iyy="9.0105E-05" iyz="-2.2709E-07" izz="0.00015076"/>
    </inertial>
    <visual>
      <origin rpy="0 0 0" xyz="0 0 0"/>
      <geometry>
        <mesh filename="meshes/arm/left_arm_link7.stl"/>
      </geometry>
      <material name="">
        <color rgba="1 1 1 1"/>
      </material>
    </visual>
    <collision>
      <origin rpy="0 0 0" xyz="0 0 0"/>
      <geometry>
        <mesh filename="meshes/arm/left_arm_link7.stl"/>
      </geometry>
    </collision>
  </link>
  <joint name="left_arm_joint7" type="revolute">
    <origin rpy="1.5707963267948966 0 0" xyz="0 0 0"/>
    <parent link="left_arm_link6"/>
    <child link="left_arm_link7"/>
    <axis xyz="0 0 1"/>
    <limit effort="10" lower="-3.141592654" upper="3.141592654" velocity="1.5"/>
  </joint>
  <link name="left_arm_end_effector_mount_link"/>
  <joint name="left_arm_end_effector_mount_joint" type="fixed">
    <origin rpy="0 0 0" xyz="0 0 0.0845"/>
    <parent link="left_arm_link7"/>
    <child link="left_arm_end_effector_mount_link"/>
    <axis xyz="0 0 0"/>
  </joint>
  <joint name="left_flange_joint" type="fixed">
    <origin rpy="0 0 2.617993878" xyz="0 0 0"/>
    <parent link="left_arm_end_effector_mount_link"/>
    <child link="left_flange_base_link"/>
  </joint>
  <link name="left_flange_base_link">
    <inertial>
      <origin rpy="0 0 0" xyz="0.052829 -0.00096484 0.013285"/>
      <mass value="0.25733"/>
      <inertia ixx="0.0002175" ixy="-2.5433E-06" ixz="4.0586E-06" iyy="5.3894E-05" iyz="-1.8533E-06" izz="0.00025319"/>
    </inertial>
    <visual>
      <origin rpy="0 0 0" xyz="0 0 0"/>
      <geometry>
        <mesh filename="meshes/flange/flange_base_link.stl"/>
      </geometry>
      <material name="">
        <color rgba="1 1 1 1"/>
      </material>
    </visual>
    <collision>
      <origin rpy="0 0 0" xyz="0 0 0"/>
      <geometry>
        <mesh filename="meshes/flange/flange_base_link.stl"/>
      </geometry>
    </collision>
  </link>
  <link name="left_flange_mount_link"/>
  <joint name="left_flange_mount_joint" type="fixed">
    <origin rpy="0 0 0" xyz="0 0 0.006"/>
    <parent link="left_flange_base_link"/>
    <child link="left_flange_mount_link"/>
    <axis xyz="0 0 0"/>
  </joint>
  <joint name="left_arm_camera_joint" type="fixed">
    <origin rpy="3.1415926 -1.308996939 0" xyz="0.0526 -0.02 0.02054"/>
    <parent link="left_flange_base_link"/>
    <child link="left_arm_camera_flange_link"/>
  </joint>
  <link name="left_arm_camera_flange_link">
    <inertial>
      <origin rpy="0 0 0" xyz="0.052829 -0.00096484 0.013285"/>
      <mass value="0.25733"/>
      <inertia ixx="0.0002175" ixy="-2.5433E-06" ixz="4.0586E-06" iyy="5.3894E-05" iyz="-1.8533E-06" izz="0.00025319"/>
    </inertial>
    <visual>
      <origin rpy="0 0 0" xyz="0 0 0"/>
      <geometry>
        <mesh filename="meshes/camera/arm_camera.stl"/>
      </geometry>
      <material name="">
        <color rgba="1 1 1 1"/>
      </material>
    </visual>
    <collision>
      <origin rpy="0 0 0" xyz="0 0 0"/>
      <geometry>
        <mesh filename="meshes/camera/arm_camera.stl"/>
      </geometry>
    </collision>
  </link>
  <joint name="left_gripper_joint" type="fixed">
    <origin rpy="0 0 0" xyz="0 0 0"/>
    <parent link="left_flange_mount_link"/>
    <child link="left_gripper_base_link"/>
  </joint>
  <link name="left_gripper_base_link">
    <inertial>
      <origin rpy="0 0 0" xyz="0.0875969515032359 -0.000593766922509439 -0.000273353044587243"/>
      <mass value="0.229646651659589"/>
      <inertia ixx="8.60029243295527E-05" ixy="2.00063024143341E-06" ixz="2.85398505671959E-06" iyy="7.73254340691918E-05" iyz="-1.0856442426917E-07" izz="9.78281466602487E-05"/>
    </inertial>
    <visual>
      <origin rpy="0 0 0" xyz="0 0 0"/>
      <geometry>
        <mesh filename="meshes/gripper/gripper_hitbot_base_link.stl"/>
      </geometry>
      <material name="">
        <color rgba="1 1 1 1"/>
      </material>
    </visual>
    <collision>
      <origin rpy="0 0 0" xyz="0 0 0"/>
      <geometry>
        <mesh filename="meshes/gripper/gripper_hitbot_base_link.stl"/>
      </geometry>
    </collision>
  </link>
  <link name="left_gripper_left_link">
    <inertial>
      <origin rpy="0 0 0" xyz="-0.0231481638496937 -4.90112376816481E-07 -0.000267991935875532"/>
      <mass value="0.00675449578859124"/>
      <inertia ixx="3.19945619554153E-07" ixy="-7.76829664652689E-12" ixz="-3.91342467850705E-07" iyy="1.5976052028241E-06" iyz="2.16781299849398E-11" izz="1.50158040800935E-06"/>
    </inertial>
    <visual>
      <origin rpy="0 0 0" xyz="0 0 0"/>
      <geometry>
        <mesh filename="meshes/gripper/gripper_hitbot_left_link.stl"/>
      </geometry>
      <material name="">
        <color rgba="1 1 1 1"/>
      </material>
    </visual>
    <collision>
      <origin rpy="0 0 0" xyz="0 0 0"/>
      <geometry>
        <mesh filename="meshes/gripper/gripper_hitbot_left_link.stl"/>
      </geometry>
    </collision>
  </link>
  <joint name="left_gripper_left_joint" type="prismatic">
    <origin rpy="1.5707963267948966 0 3.141592653589793" xyz="0 0 0.21579"/>
    <parent link="left_gripper_base_link"/>
    <child link="left_gripper_left_link"/>
    <axis xyz="0 0 1"/>
    <limit effort="2" lower="0.005" upper="0.05" velocity="0.045"/>
  </joint>
  <link name="left_gripper_right_link">
    <inertial>
      <origin rpy="0 0 0" xyz="-0.0231481638496943 -4.90112376734401E-07 -0.000267991935824489"/>
      <mass value="0.00675449578859123"/>
      <inertia ixx="3.19945619552427E-07" ixy="-7.76829655500751E-12" ixz="-3.91342467848098E-07" iyy="1.5976052028241E-06" iyz="2.16781300075729E-11" izz="1.50158040801108E-06"/>
    </inertial>
    <visual>
      <origin rpy="0 0 0" xyz="0 0 0"/>
      <geometry>
        <mesh filename="meshes/gripper/gripper_hitbot_right_link.stl"/>
      </geometry>
      <material name="">
        <color rgba="1 1 1 1"/>
      </material>
    </visual>
    <collision>
      <origin rpy="0 0 0" xyz="0 0 0"/>
      <geometry>
        <mesh filename="meshes/gripper/gripper_hitbot_right_link.stl"/>
      </geometry>
    </collision>
  </link>
  <joint name="left_gripper_right_joint" type="prismatic">
    <origin rpy="-1.5707963267948966 0 -3.141592653589793" xyz="0 0 0.21579"/>
    <parent link="left_gripper_base_link"/>
    <child link="left_gripper_right_link"/>
    <axis xyz="0 0 1"/>
    <limit effort="2" lower="0.005" upper="0.05" velocity="0.045"/>
    <!-- mimic not supported in isaac sim 2023.1.0-hotfix  -->
    <!-- <mimic joint="${name}_left_joint" multiplier="-1" offset="0" /> -->
  </joint>
  <!-- Tool Center Point -->
  <link name="left_gripper_tcp_link"/>
  <joint name="tcp_joint" type="fixed">
    <origin rpy="0 0 0" xyz="0 0 0.21579"/>
    <parent link="left_gripper_base_link"/>
    <child link="left_gripper_tcp_link"/>
    <axis xyz="0 0 0"/>
  </joint>
</robot>
